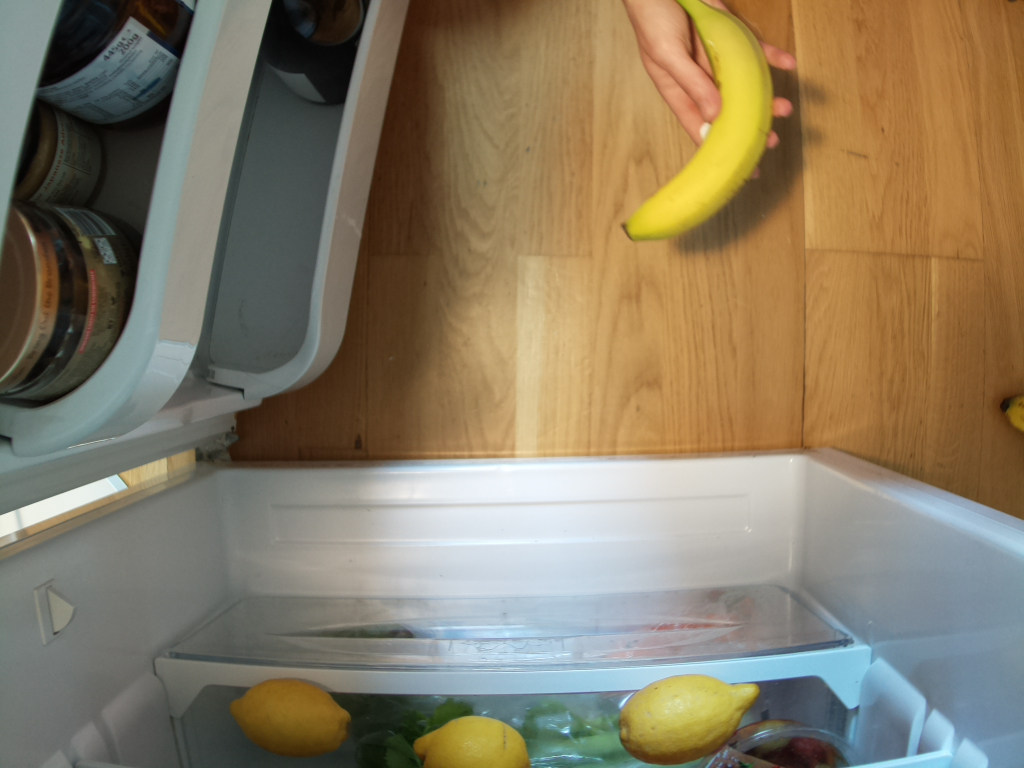banana: (626, 1, 775, 249)
